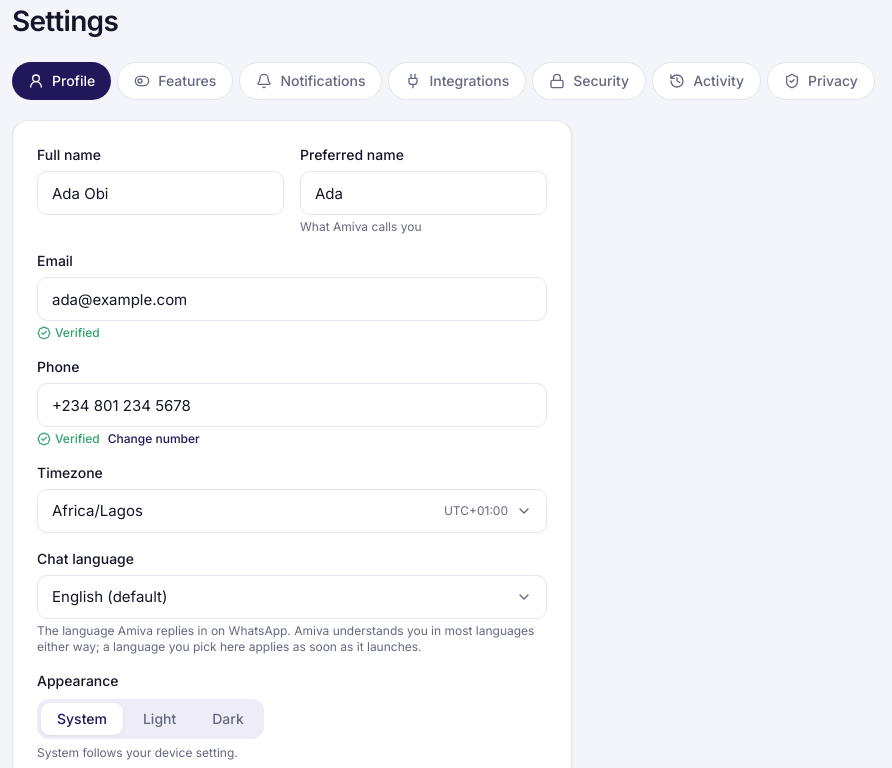
Test case: Activity log (inside Settings) › failed actions state that no change was made
Step 1. Click the button "Activity" → coordinates (707, 81), box x1=652 y1=62 x2=761 y2=100
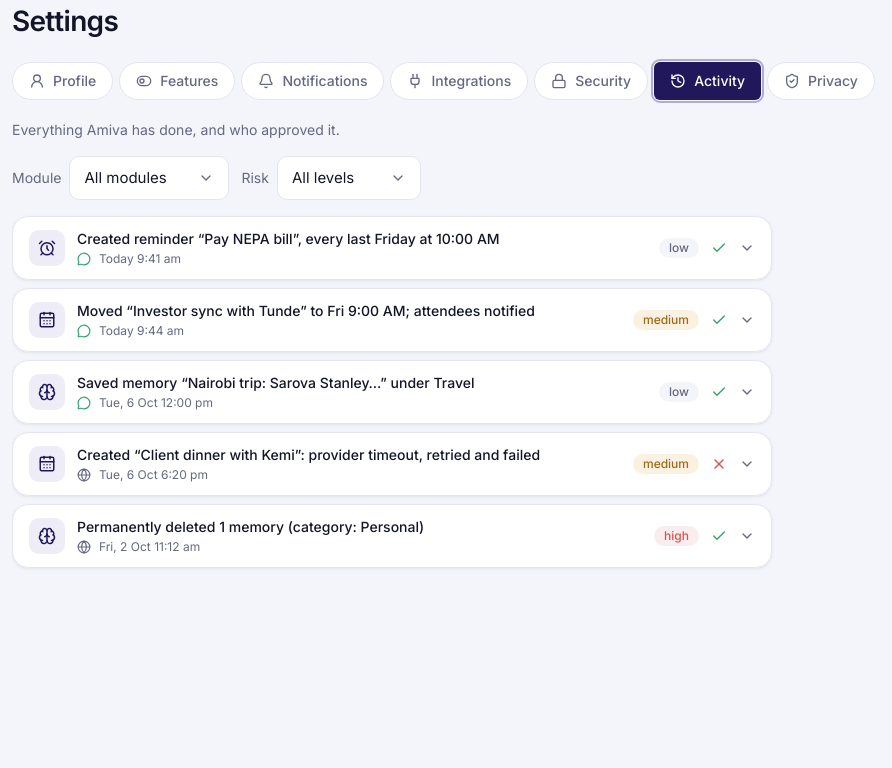
Step 2. Click the text "Client dinner with Kemi" → coordinates (349, 455), box x1=77 y1=445 x2=621 y2=465
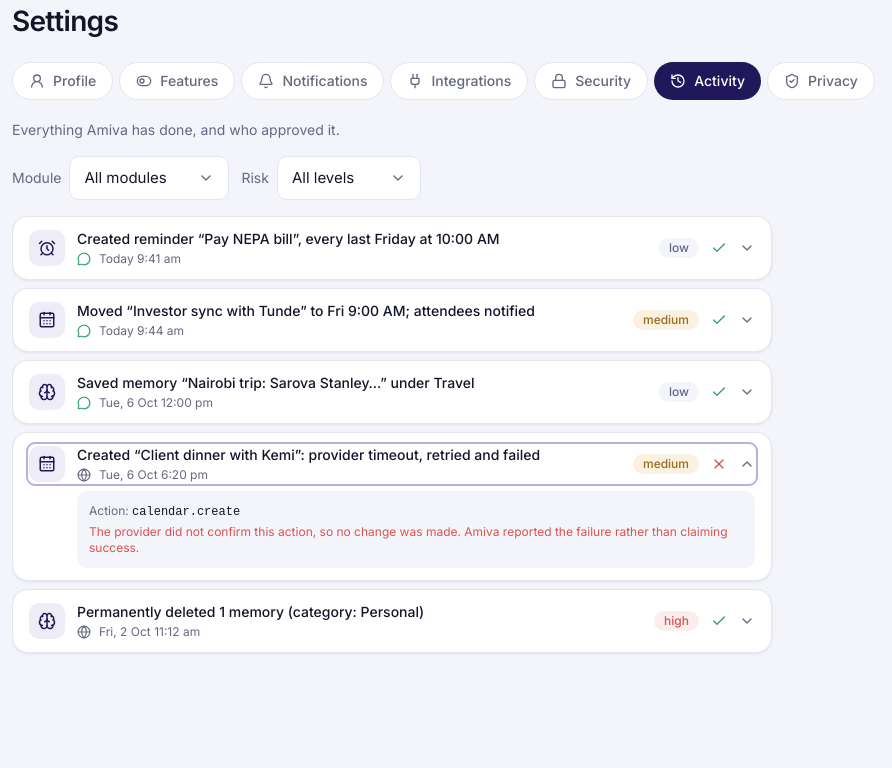
Expected: the text "no change was made" is shown, x1=89 y1=524 x2=728 y2=555
